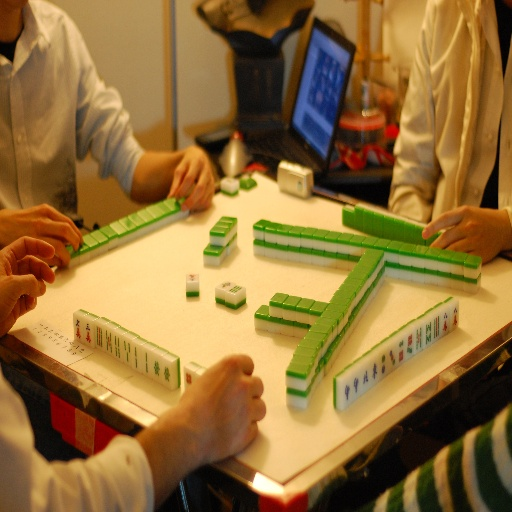hand: (188, 352, 265, 462), (0, 233, 55, 340), (0, 200, 84, 269), (421, 205, 503, 266), (165, 143, 216, 213)
